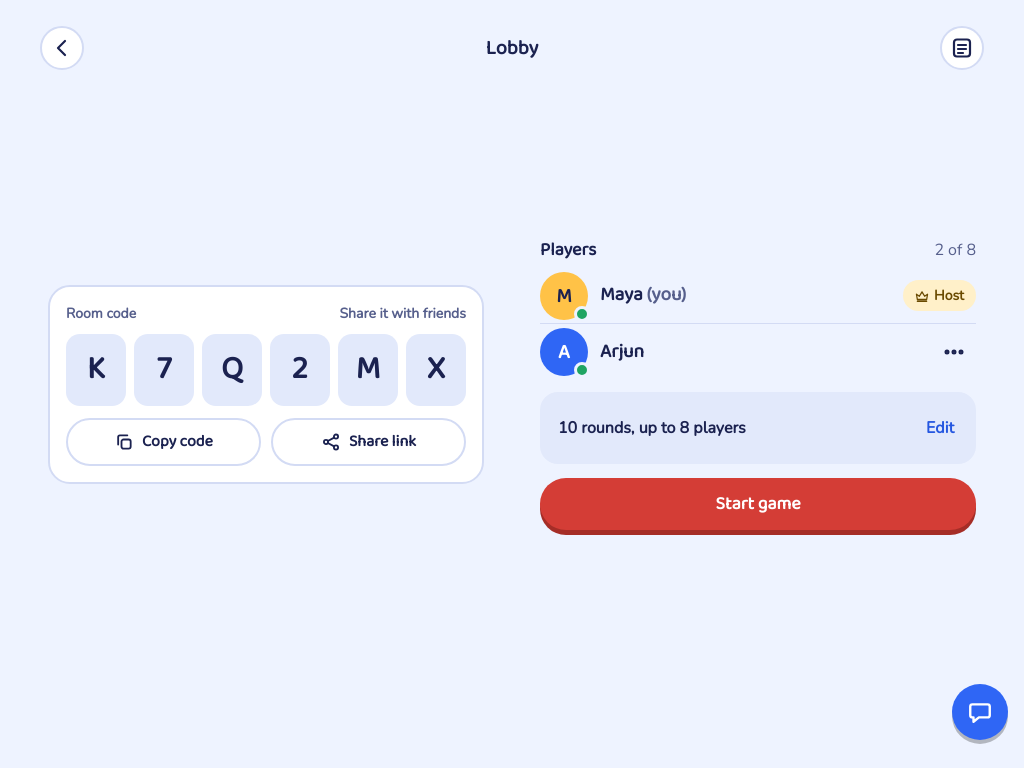
Test: chat › server errors are shown in plain words
Expected: the heading "Lobby" is shown, [486,36,538,60]
Click the button named "Open chat". click: (980,712)
box: [952,684,1008,740]
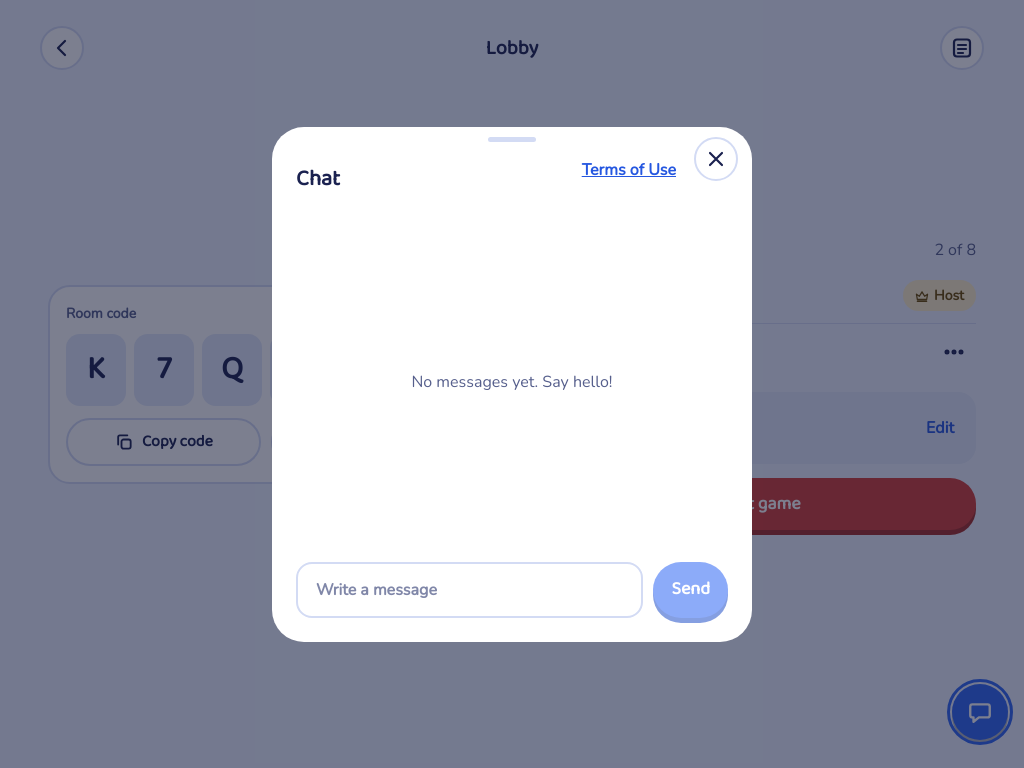
Type "hello" into the field labelled "Write a message". click: (470,590)
box: [296,562,643,618]
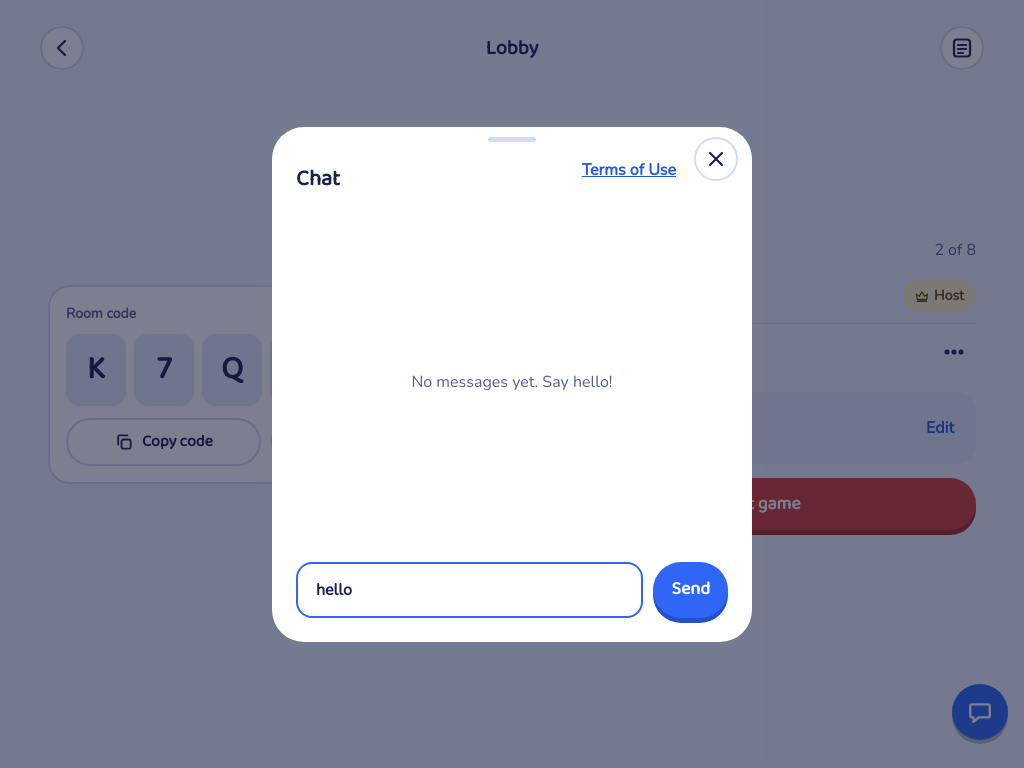
Click the button "Send". click: (691,590)
box: [653,562,728,618]
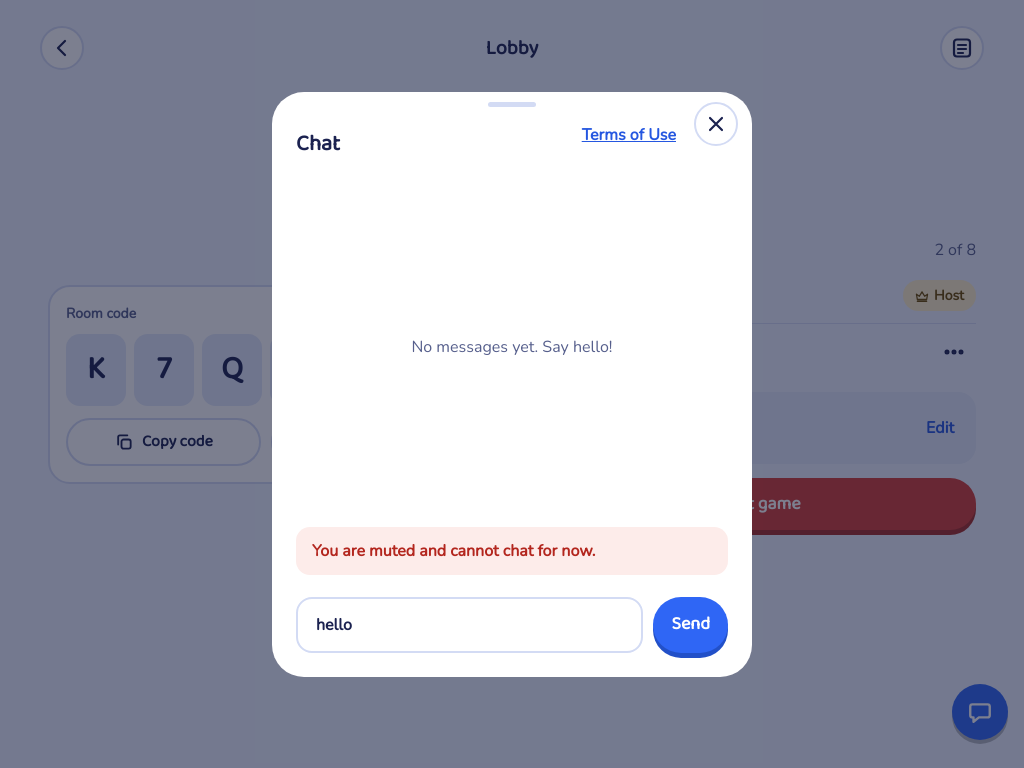
Expected: the message reads "You are muted and cannot chat for now.", [312,540,596,562]
